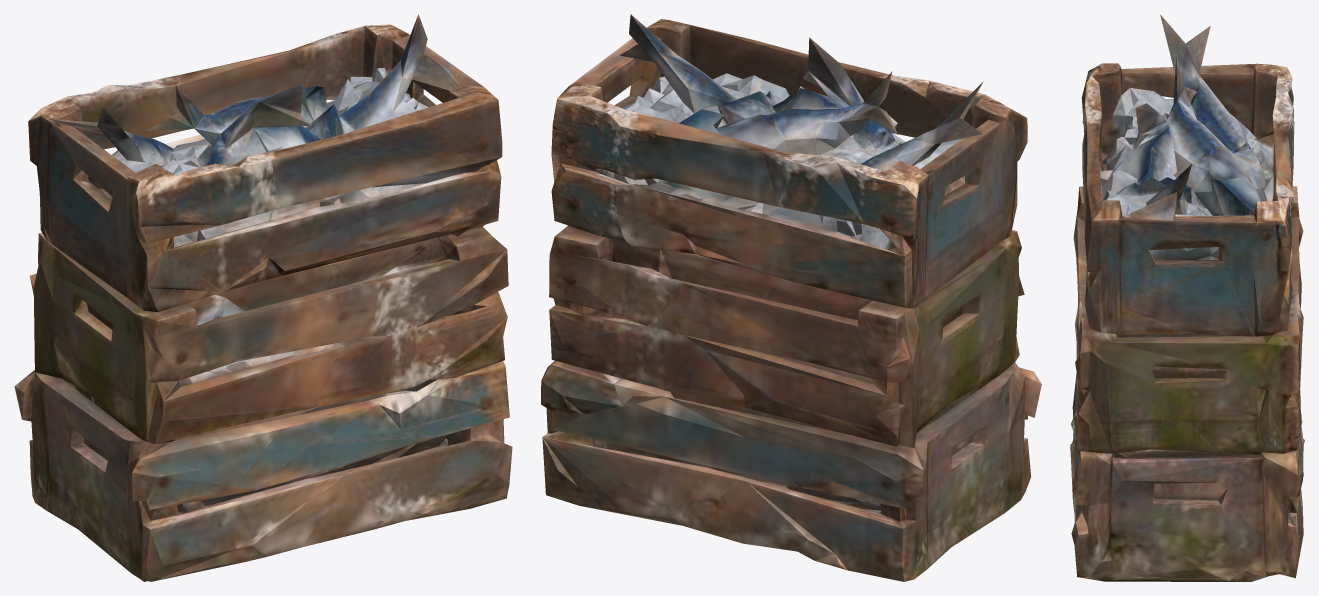
File: prop_crates.glb
3 renders of one model, left to right at view 1: azimuth 30°, elevation 25°; view 2: azimuth 150°, elevation 25°; view 3: azimuth 270°, elevation 25°, orthographic. The views are drawn at different scales.
Bounding box in the file's own units: 1.72 × 1.89 × 0.9785.
Materials: 1 (1 with a texture image).
